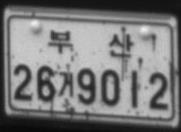0: (100, 68, 120, 106)
1: (124, 69, 142, 108)
2: (148, 70, 168, 110), (12, 63, 32, 100)
6: (35, 64, 55, 101)
9: (76, 67, 96, 104)
거: (57, 70, 74, 97)
부산_D: (47, 28, 134, 58)
